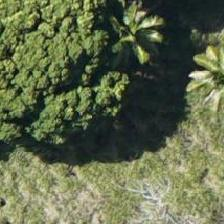coconut_tree: (88, 0, 178, 90), (164, 39, 223, 129)
